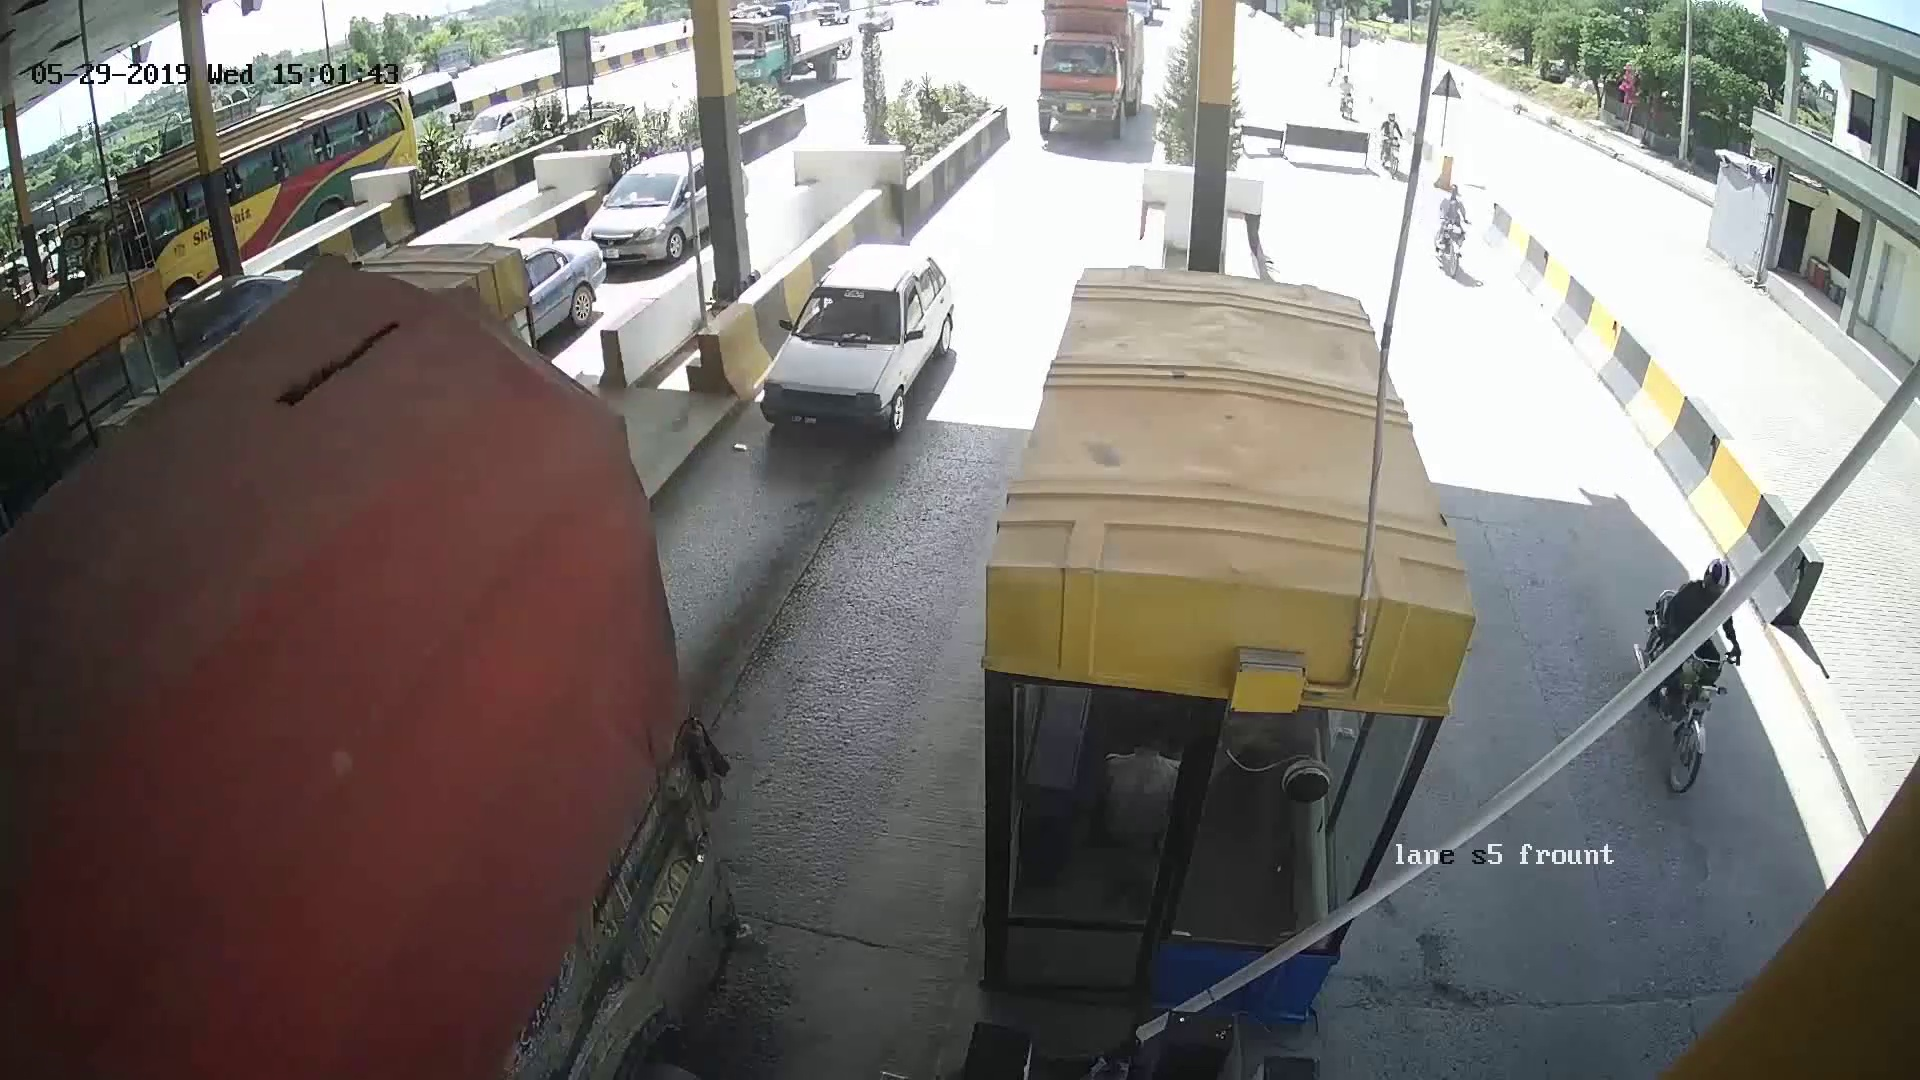car: (771, 255, 948, 438)
truck: (119, 538, 671, 1013), (1025, 13, 1131, 152)
